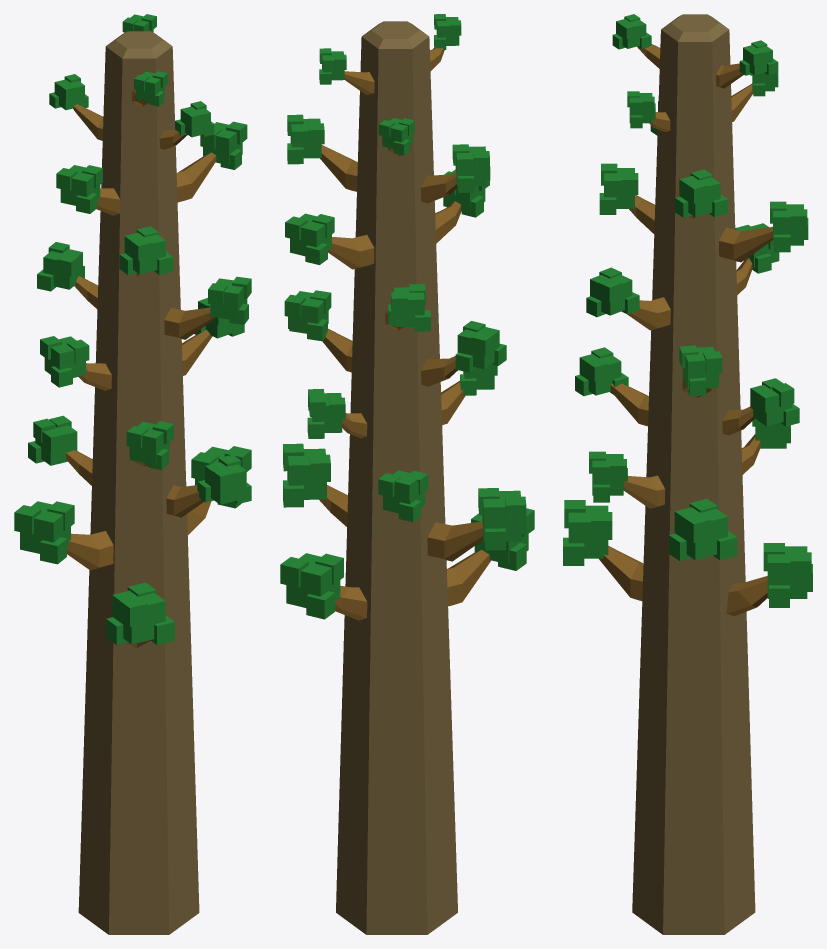
The model's file is Tree2.fbx.
3 views of the same model, side by side, from view 1: azimuth 30°, elevation 25°; view 2: azimuth 150°, elevation 25°; view 3: azimuth 270°, elevation 25° (orthographic). The views are drawn at different scales.
Visible parts, largest first — view 1: Cylinder.001; view 2: Cylinder.001; view 3: Cylinder.001.
Boxes of the visible parts, x1,y1,x2,y2 form: Cylinder.001: (14,14,251,934); Cylinder.001: (280,14,534,934); Cylinder.001: (563,14,812,934).
Bounding box in the file's own units: 3994 × 13925 × 3546.
